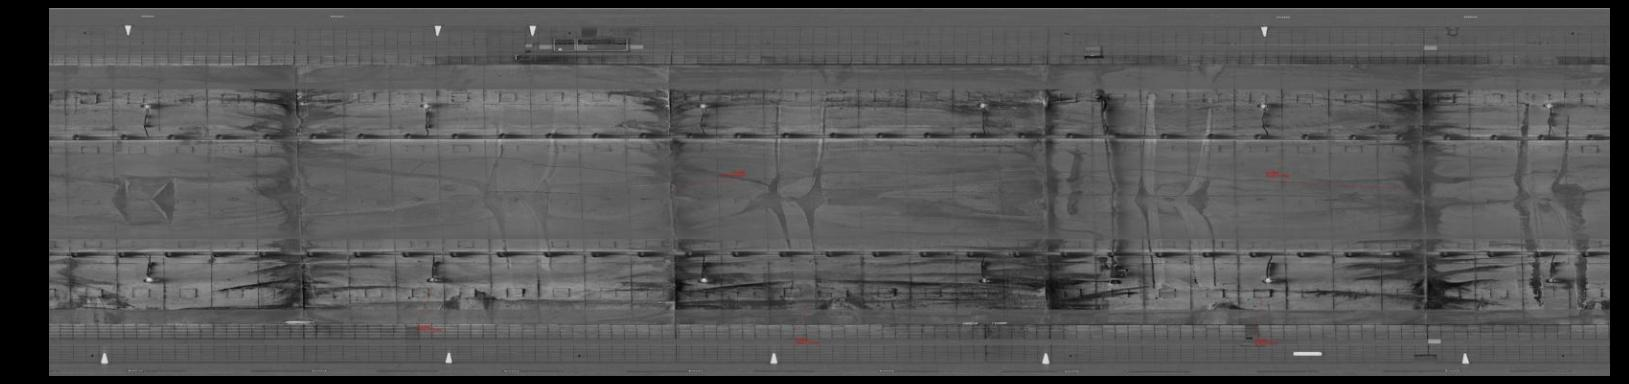light: (1250, 100, 1275, 113), (138, 273, 158, 289), (422, 273, 443, 286), (135, 98, 157, 110), (1539, 99, 1558, 111), (1542, 273, 1561, 285), (417, 100, 439, 110), (691, 100, 714, 110), (693, 274, 712, 286), (1259, 273, 1278, 285), (972, 100, 991, 111), (972, 276, 993, 284)
